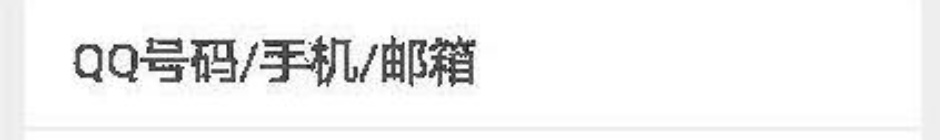EditText: (1, 1, 939, 139)
